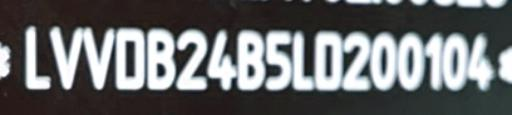letter: (47, 24, 83, 93), (112, 26, 148, 93), (82, 24, 116, 93), (174, 27, 210, 92), (144, 26, 178, 93), (206, 25, 238, 94), (236, 29, 268, 94), (22, 23, 52, 92), (314, 29, 344, 94), (396, 29, 426, 94), (341, 31, 371, 94), (265, 28, 293, 93), (369, 29, 397, 94), (468, 30, 496, 93), (442, 31, 470, 92), (290, 30, 316, 93), (422, 31, 444, 92)
